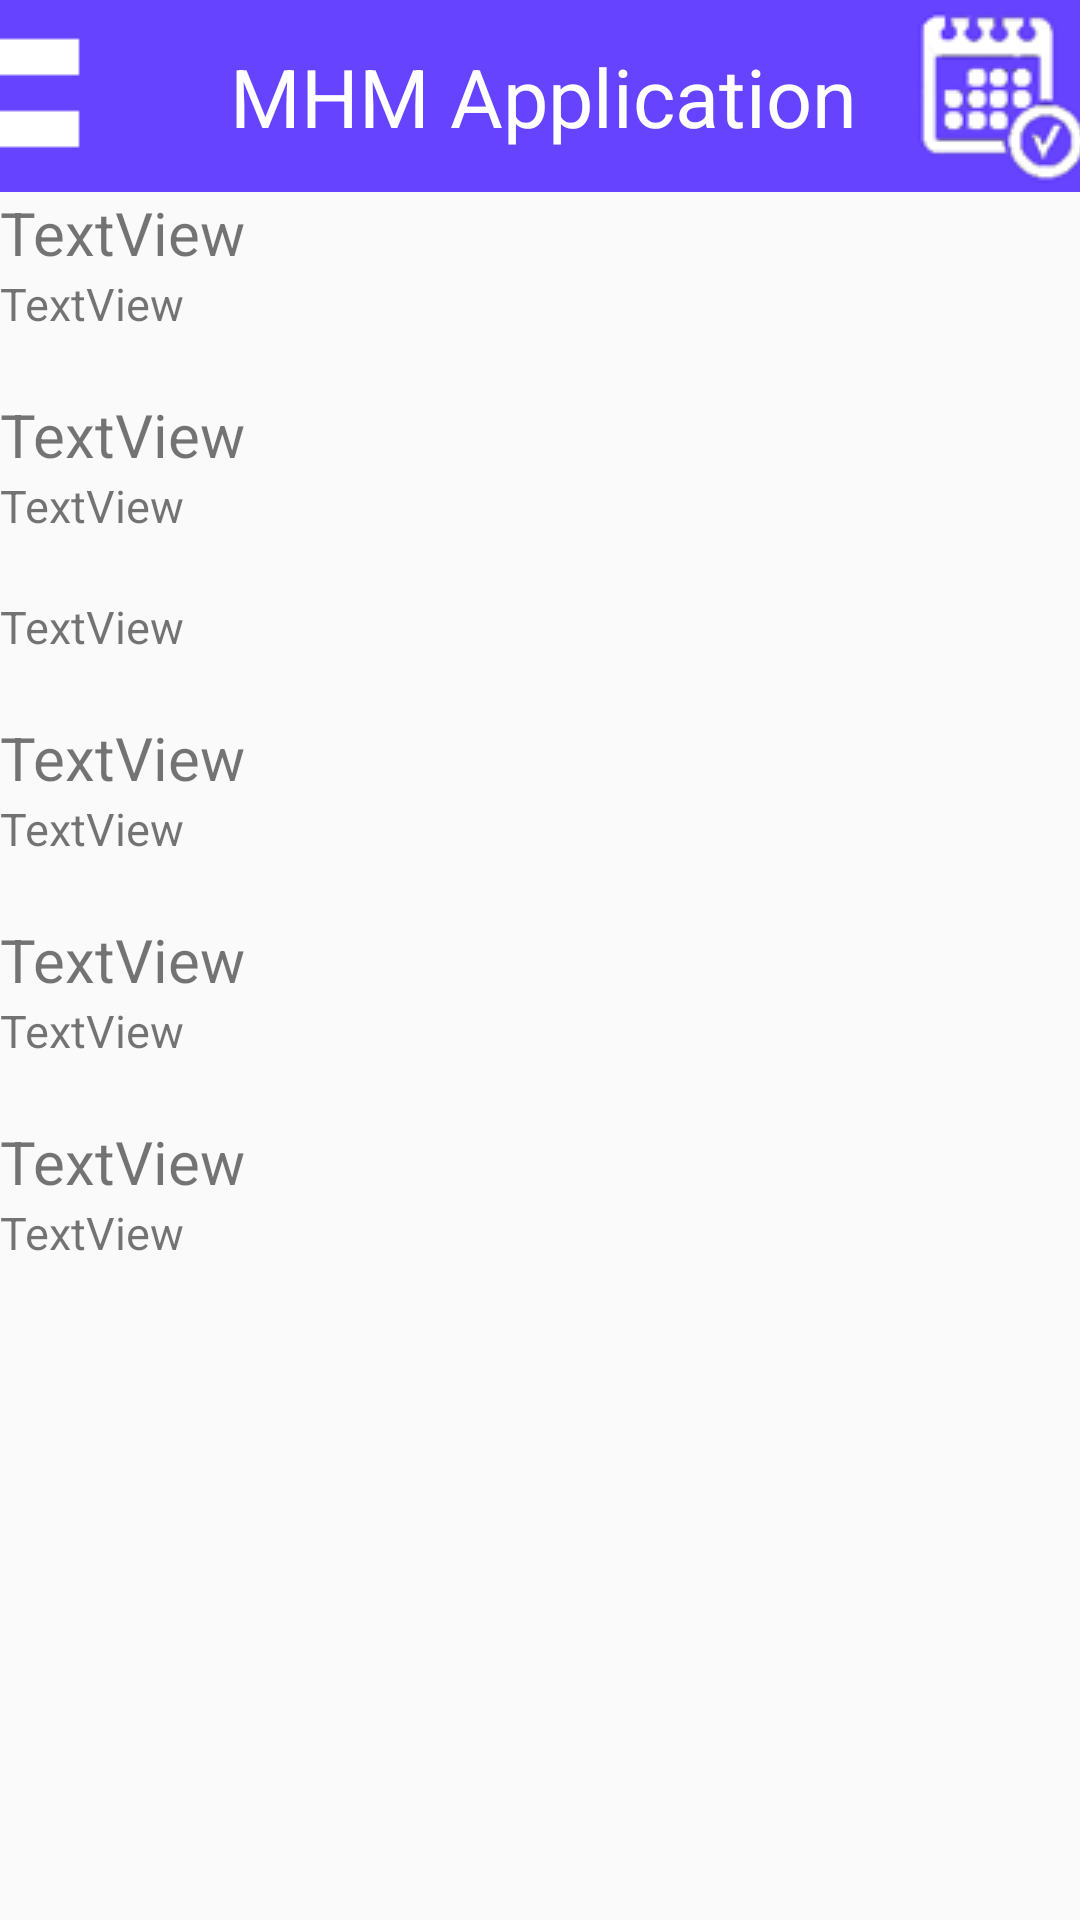

Icon bounding boxes for this 1080 × 1920 phone screenshot, format (x1, y1, x2, y2):
calendar: (921, 15, 1080, 180)
